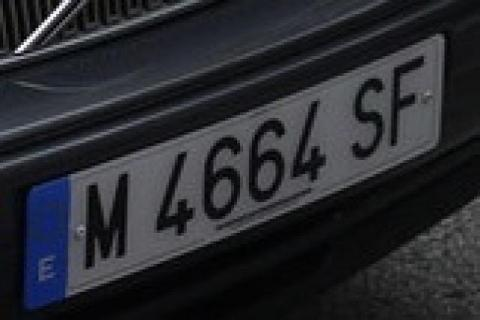LicensePlate: (7, 12, 478, 314)
